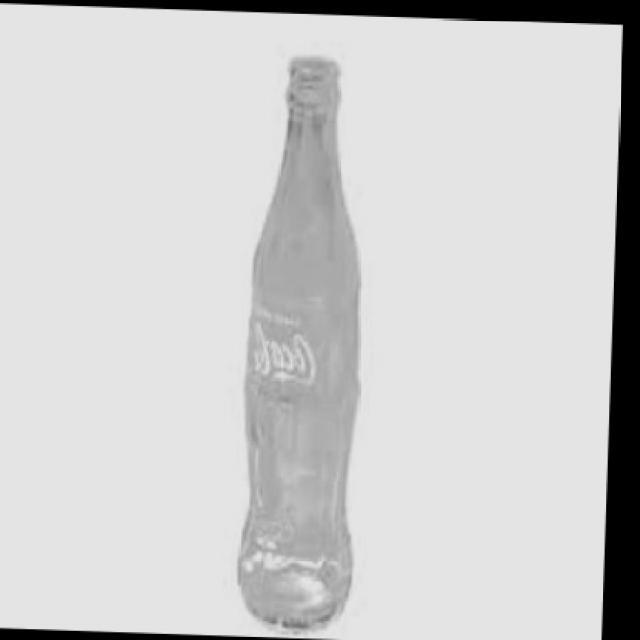Glass: (236, 54, 359, 636)
